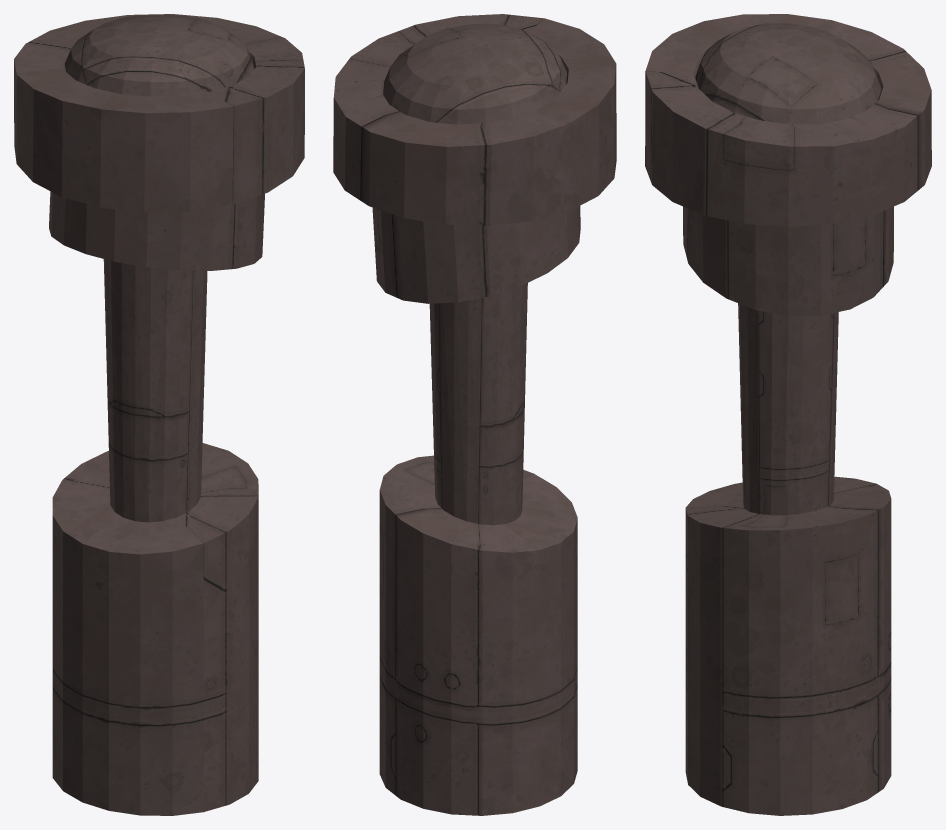
File: Pylon02.fbx
3 views of the same model, side by side, from view 1: azimuth 30°, elevation 25°; view 2: azimuth 150°, elevation 25°; view 3: azimuth 270°, elevation 25° (orthographic). The views are drawn at different scales.
Visible parts, largest first — view 1: SM_ENV_STRUCT_ScrapYard_Pylon_02.mo; view 2: SM_ENV_STRUCT_ScrapYard_Pylon_02.mo; view 3: SM_ENV_STRUCT_ScrapYard_Pylon_02.mo.
Part boxes in pixels (box(x1,y1,x2,y2)): SM_ENV_STRUCT_ScrapYard_Pylon_02.mo: box(14, 14, 304, 815); SM_ENV_STRUCT_ScrapYard_Pylon_02.mo: box(333, 14, 616, 815); SM_ENV_STRUCT_ScrapYard_Pylon_02.mo: box(645, 14, 931, 815).
Size of the model in its own units: 360 by 1011 by 360.
3 materials, 3 textured.
